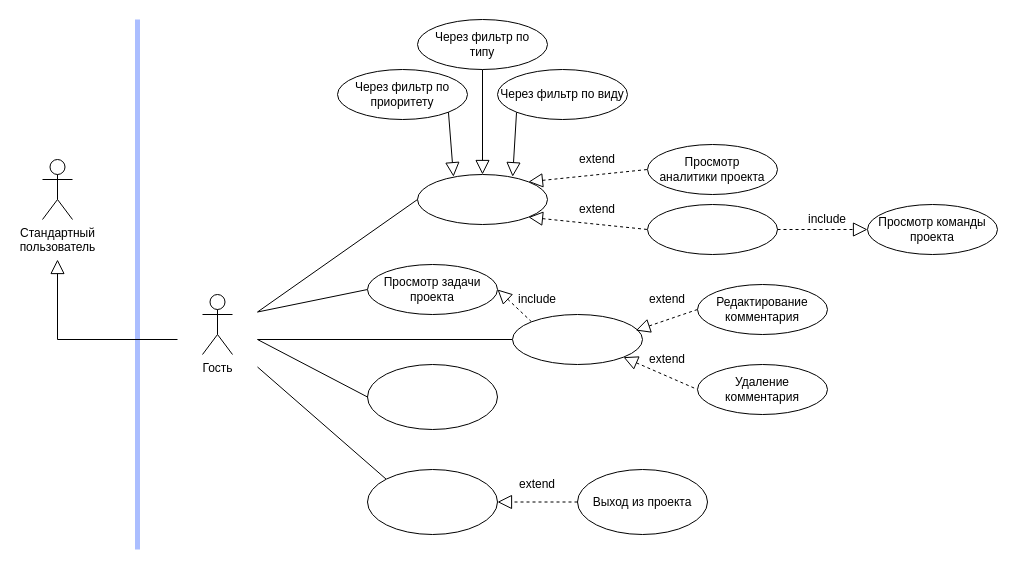
The diagram is 1015 pixels wide and 570 high, and some of its shapes have lost their labels. Here are the shapes that lost their labels. From the top down, the box of each, then its label:
(416, 174, 548, 224): Просмотр доски задач проекта
(646, 204, 778, 254): Просмотр описания проекта
(512, 314, 642, 364): Добавление комментария
(366, 364, 498, 430): Просмотр обьявлений
(366, 468, 498, 534): Получение доступа к проекту
